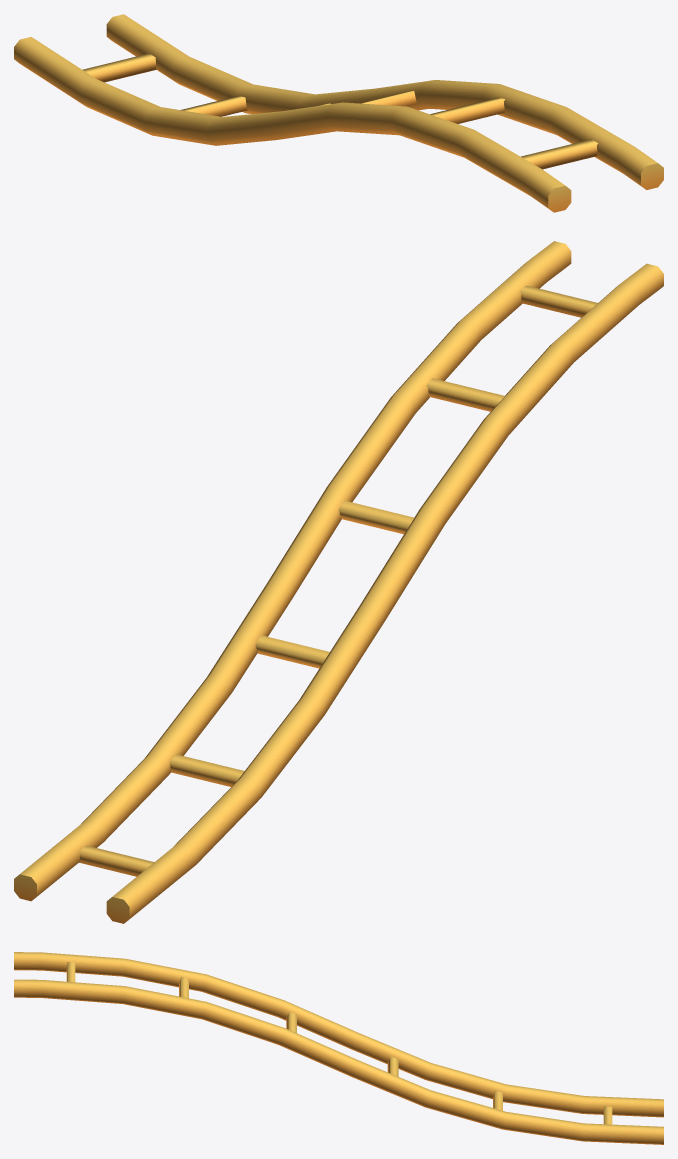
The model's file is mouse-hill-complete.glb.
3 renders of one model, top to bottom at view 1: azimuth 30°, elevation 25°; view 2: azimuth 150°, elevation 25°; view 3: azimuth 270°, elevation 25°, orthographic. The views are drawn at different scales.
Visible parts, largest first — view 1: coaster-mouse-straight-hill-complete; view 2: coaster-mouse-straight-hill-complete; view 3: coaster-mouse-straight-hill-complete.
Part boxes in pixels (x1,y1,x2,y2): coaster-mouse-straight-hill-complete: (14,14,663,212); coaster-mouse-straight-hill-complete: (14,241,663,923); coaster-mouse-straight-hill-complete: (14,952,663,1144).
Bounding box in the file's own units: 0.5 × 1.1 × 4.
1 material, 1 textured.
